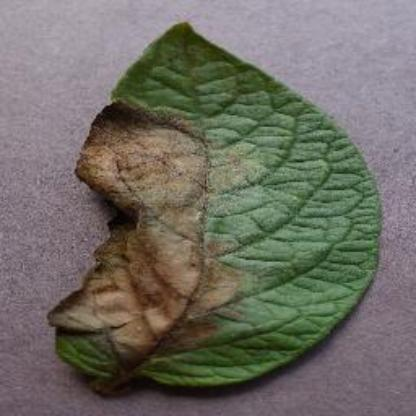Late-Blight: (52, 13, 390, 404)
